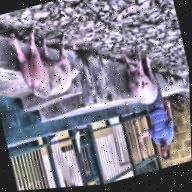boar: (8, 16, 84, 107), (121, 47, 160, 111)
